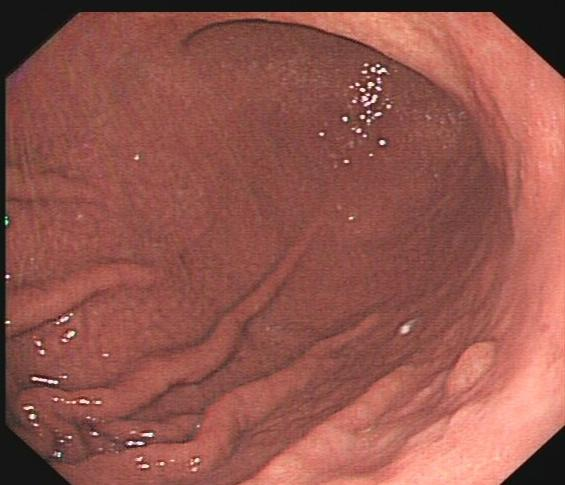Polyp: (444, 337, 498, 398)
